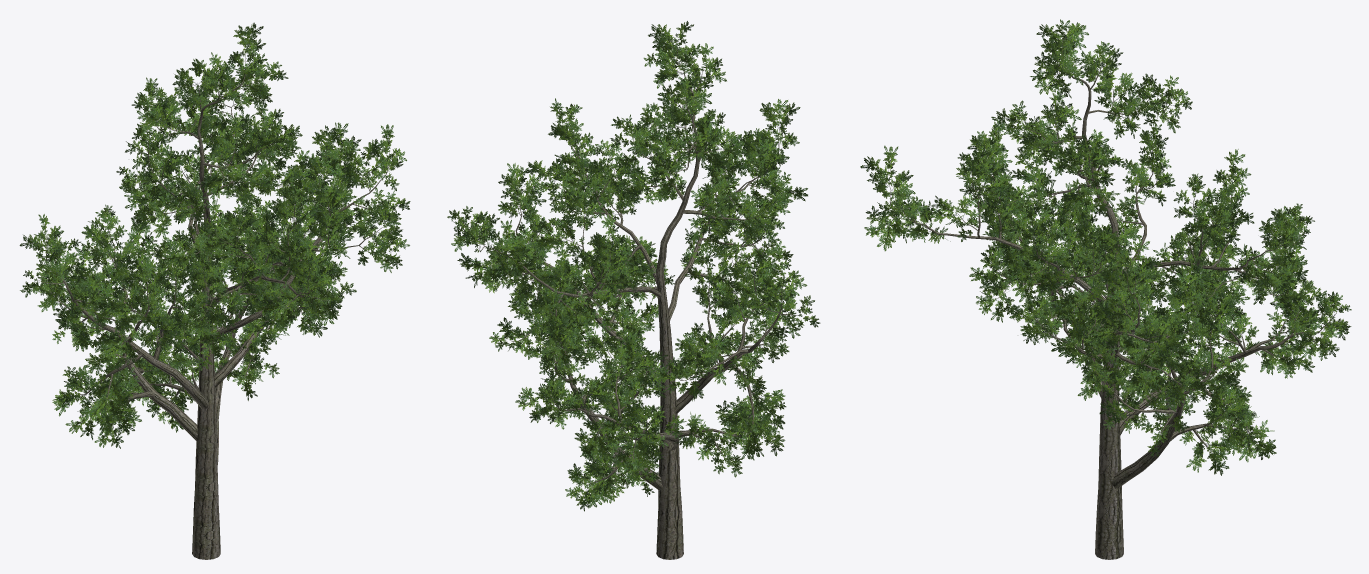
Rendered from ash_medium_03.glb.
The picture shows the model from 3 angles, left to right: view 1: azimuth 30°, elevation 25°; view 2: azimuth 150°, elevation 25°; view 3: azimuth 270°, elevation 25°; orthographic projection. The views are drawn at different scales.
Parts seen in each view (by area): view 1: Tree; view 2: Tree; view 3: Tree.
Boxes of the visible parts, left/top/right/bottom form: Tree: left=19, top=22, right=410, bottom=559; Tree: left=447, top=21, right=820, bottom=559; Tree: left=860, top=19, right=1351, bottom=559.
Bounding box in the file's own units: 56.03 × 83.75 × 68.77.
2 materials, 2 textured.
